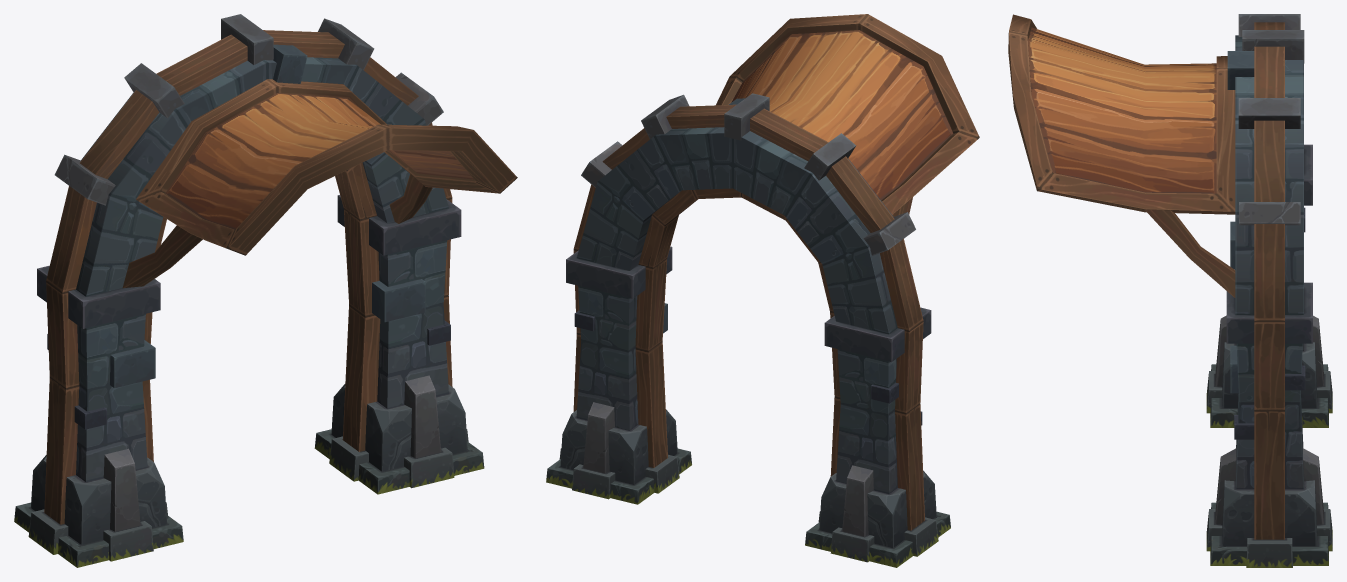
Rendered from Pr_Door_01.FBX.
3 views of the same model, side by side, from view 1: azimuth 30°, elevation 25°; view 2: azimuth 150°, elevation 25°; view 3: azimuth 270°, elevation 25° (orthographic). The views are drawn at different scales.
Visible parts, largest first — view 1: Pr_Door_01; view 2: Pr_Door_01; view 3: Pr_Door_01.
Part boxes in pixels (box(x1,y1,x2,y2)): Pr_Door_01: box(14, 14, 517, 567); Pr_Door_01: box(546, 14, 979, 567); Pr_Door_01: box(1008, 14, 1332, 567).
Bounding box in the file's own units: 3.67 × 3.95 × 2.63.
1 material, 1 textured.
